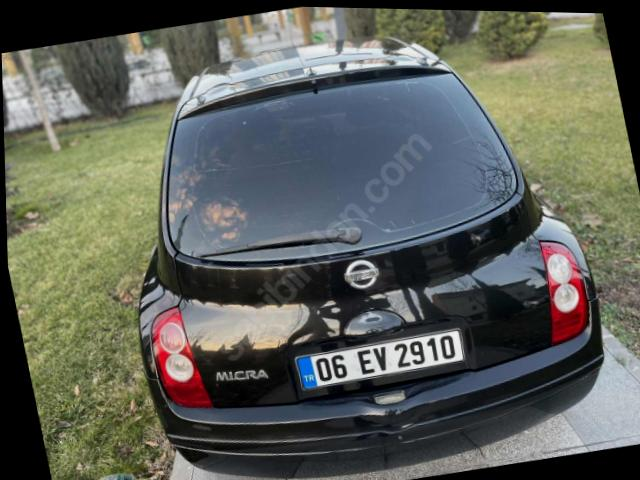plaka: (296, 328, 464, 389)
